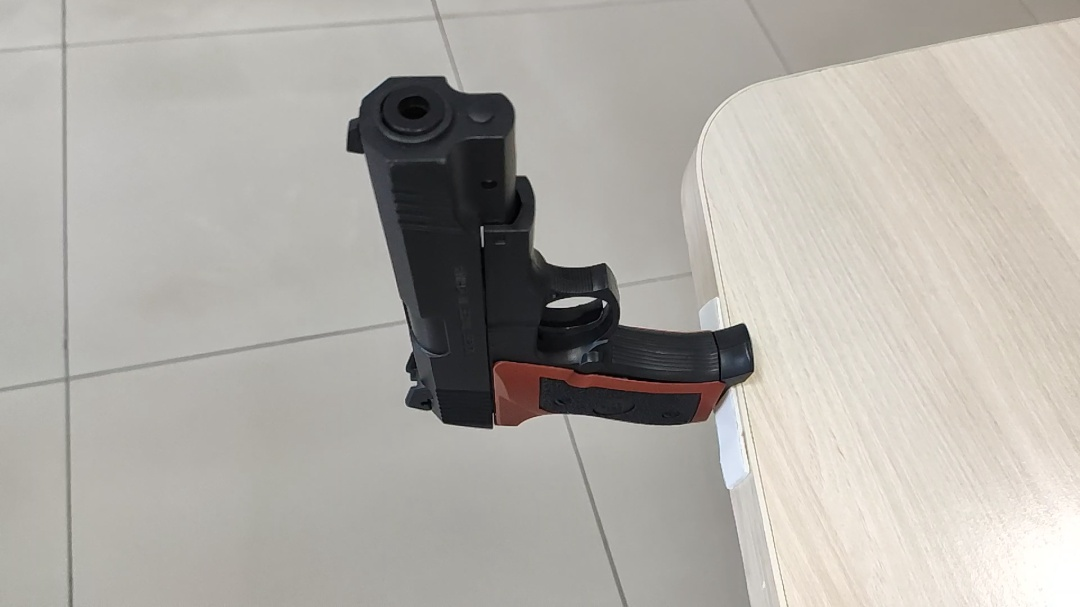gun: (593, 233, 640, 251)
